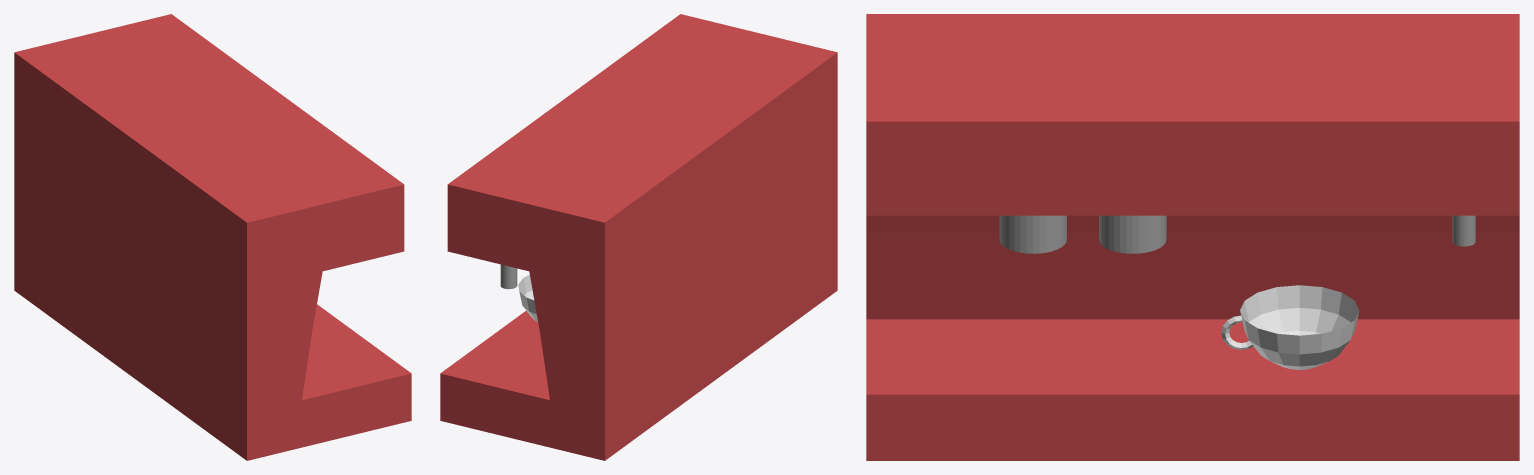
File: espresso machine.glb
3 renders of one model, left to right at view 1: azimuth 30°, elevation 25°; view 2: azimuth 150°, elevation 25°; view 3: azimuth 270°, elevation 25°, orthographic. The views are drawn at different scales.
Visible parts, largest first — view 1: grinder w cup; view 2: grinder w cup; view 3: grinder w cup.
Boxes of the visible parts, x1,y1,x2,y2 form: grinder w cup: [14, 14, 411, 460]; grinder w cup: [440, 14, 837, 460]; grinder w cup: [866, 14, 1519, 460].
Bounding box in the file's own units: 1 × 1.38 × 2.45.
